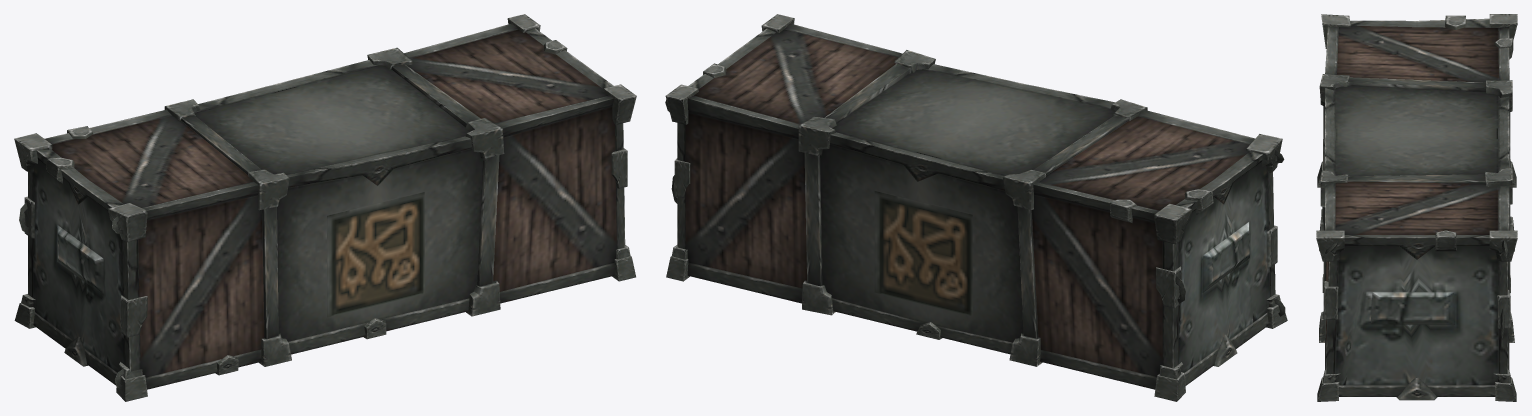
File: SM_EN_1002_muxiang03.FBX
The picture shows the model from 3 angles, left to right: view 1: azimuth 30°, elevation 25°; view 2: azimuth 150°, elevation 25°; view 3: azimuth 270°, elevation 25°; orthographic projection. The views are drawn at different scales.
Parts seen in each view (by area): view 1: SM_EN_1002_muxiang03; view 2: SM_EN_1002_muxiang03; view 3: SM_EN_1002_muxiang03.
Part boxes in pixels (bbox=[...]): SM_EN_1002_muxiang03: bbox=[14, 14, 636, 401]; SM_EN_1002_muxiang03: bbox=[665, 14, 1287, 401]; SM_EN_1002_muxiang03: bbox=[1316, 14, 1517, 401].
Bounding box in the file's own units: 99.37 × 33.27 × 36.85.
